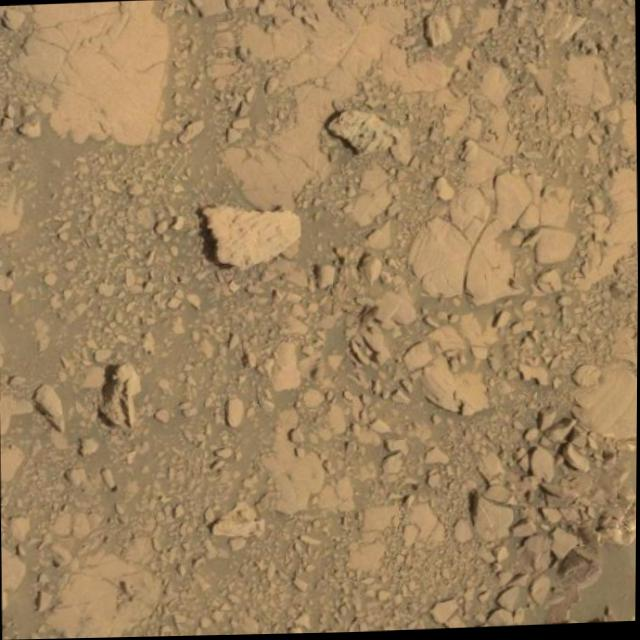mars-rocks: (200, 206, 299, 271), (325, 112, 411, 166), (97, 364, 139, 428), (471, 496, 514, 546)
